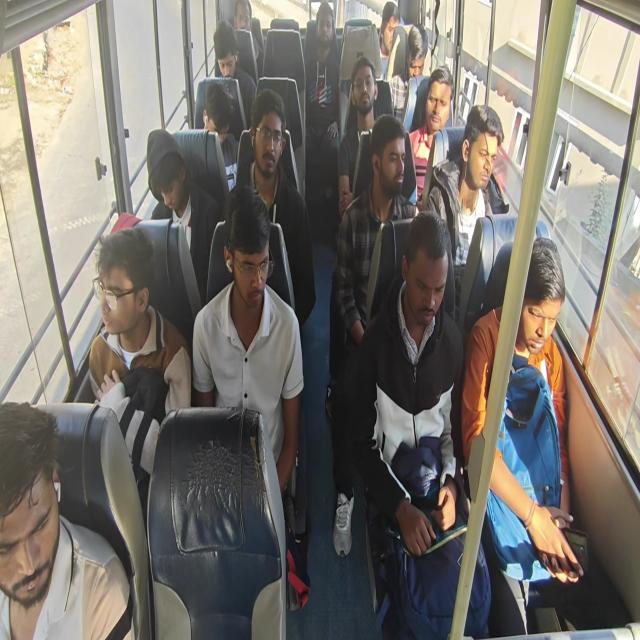person: (346, 210, 492, 638), (461, 236, 584, 585), (327, 114, 420, 556), (191, 183, 304, 503), (0, 399, 135, 639), (88, 227, 192, 421), (234, 88, 316, 330), (424, 104, 499, 321), (146, 128, 220, 308), (304, 1, 341, 240), (337, 56, 380, 218), (407, 65, 455, 204), (211, 19, 256, 130), (202, 81, 238, 191), (389, 24, 428, 115), (479, 104, 508, 214), (232, 0, 263, 76), (378, 0, 402, 78), (407, 24, 428, 78)
